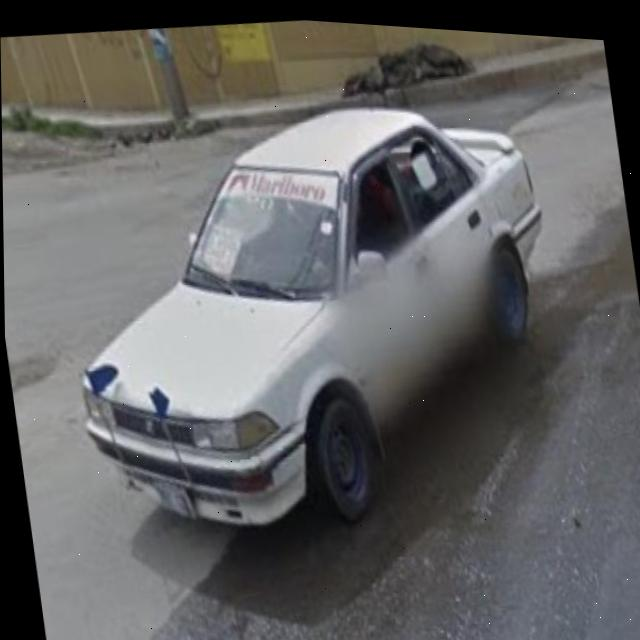vehicle: (49, 67, 586, 566)
